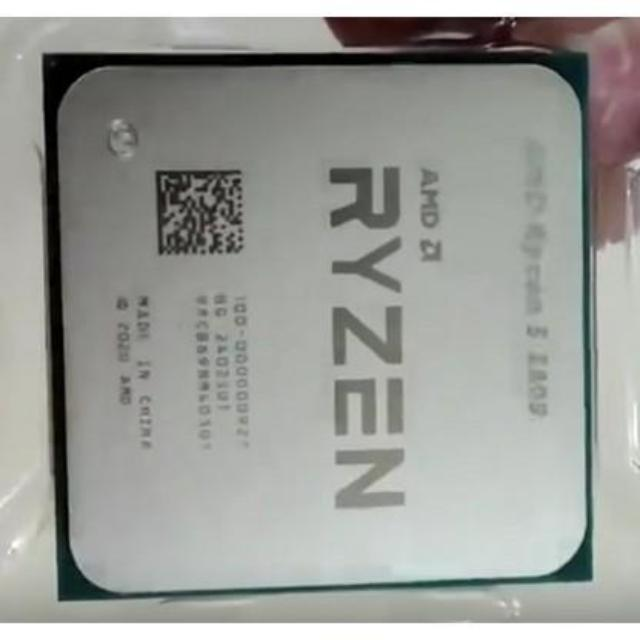CPU: (46, 49, 600, 582)
